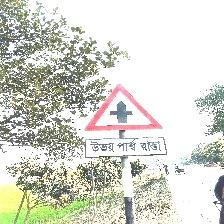Crossroad: (84, 84, 167, 158)
